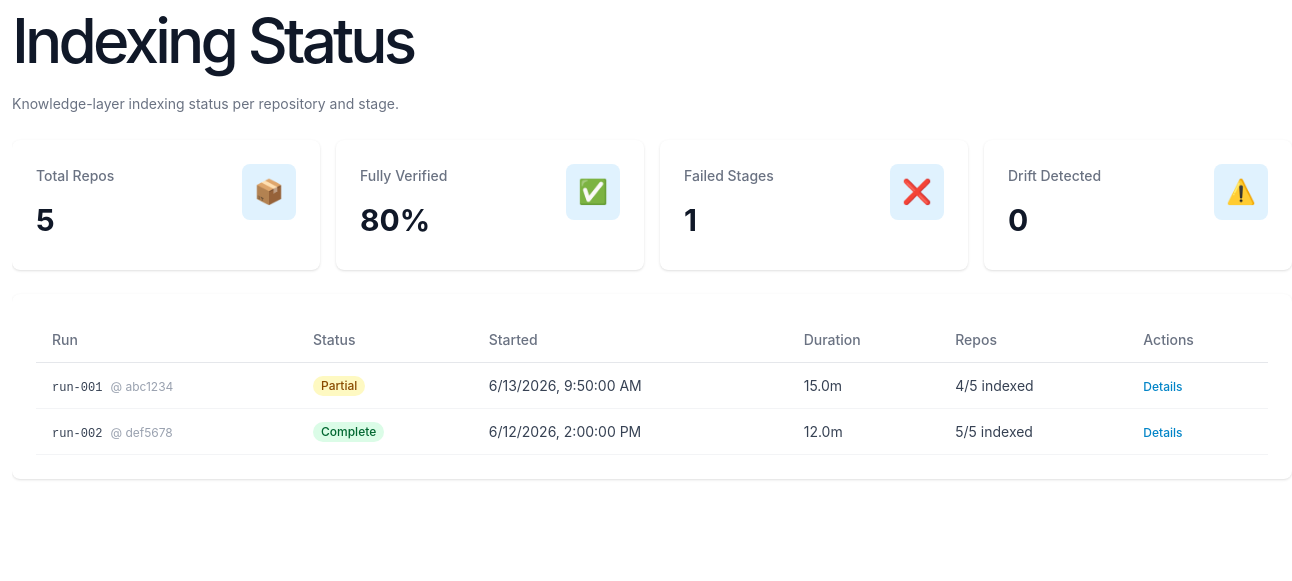
Test: IndexingStatus Page › collapses an expanded run
Expected: the text "Partial" is shown, [313, 376, 365, 396]
Click the 1st button "Details": (1163, 387) [1143, 379, 1182, 395]
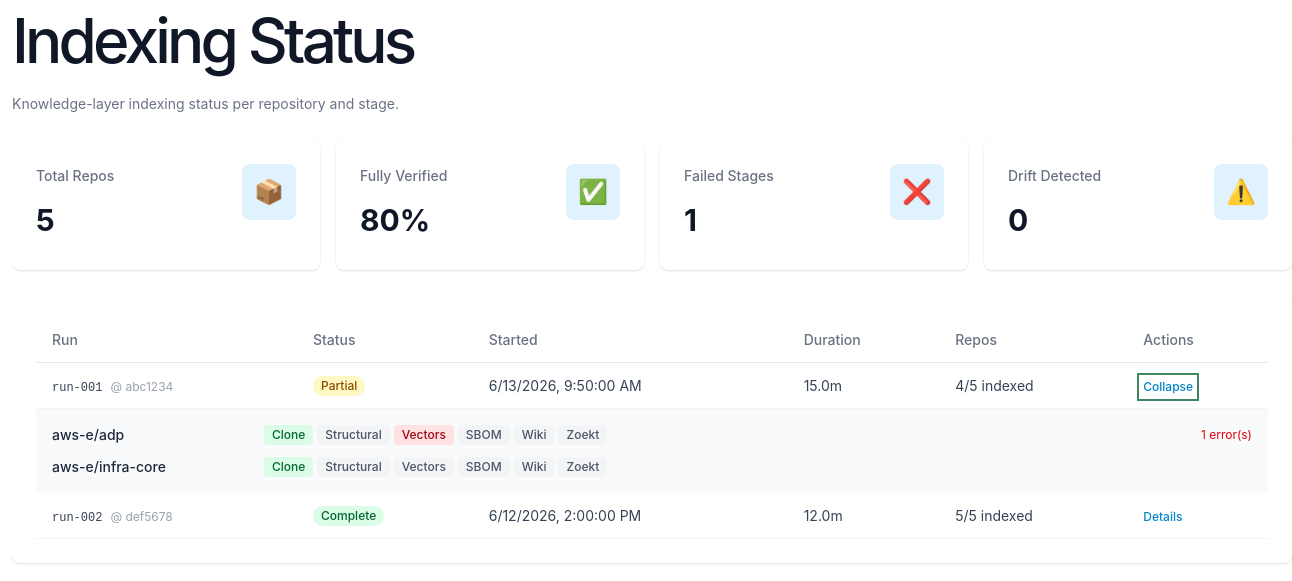
Result: the text "aws-e/adp" is shown at [52, 426, 124, 443]
Click Collapse
Click the button "Collapse": (1168, 387) [1143, 379, 1193, 395]
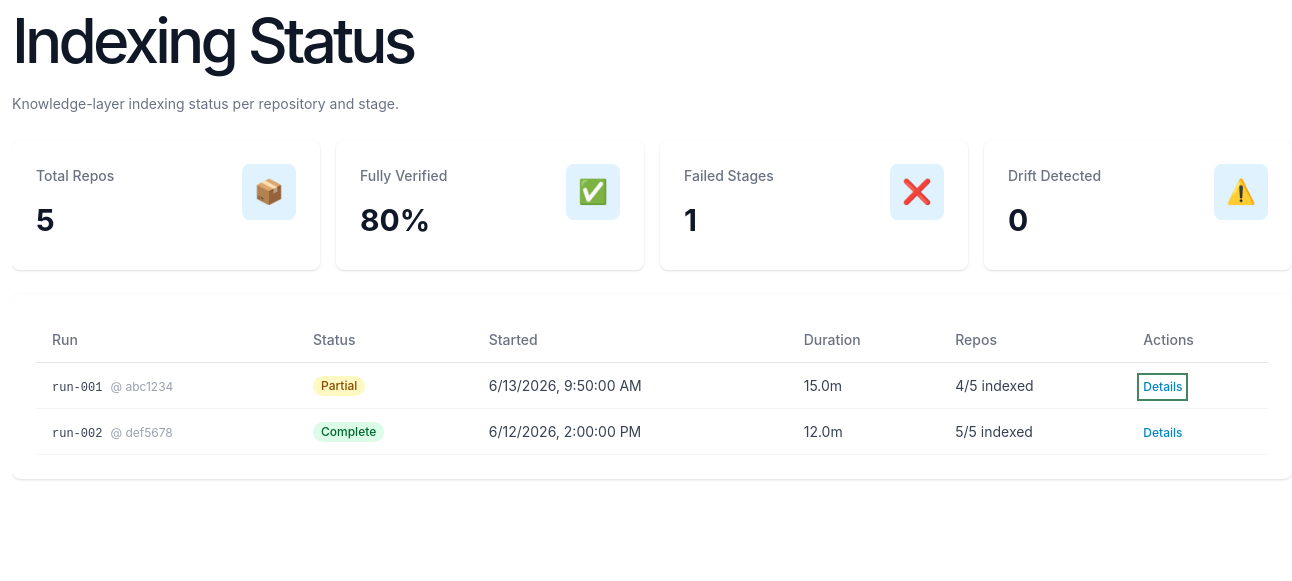
Result: the text "aws-e/adp" is gone
